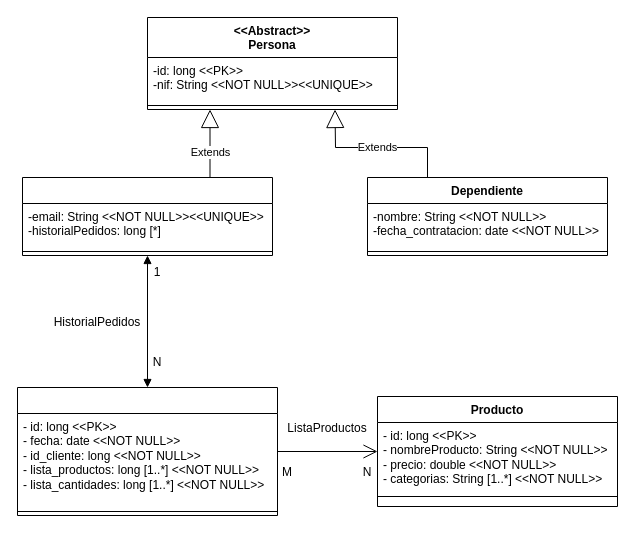
The diagram is 635 pixels wide and 533 high, and some of its shapes have lost their labels. Each missing label, with the box of its shape:
Cliente: (22, 176, 272, 256)
Pedido: (16, 386, 278, 516)
